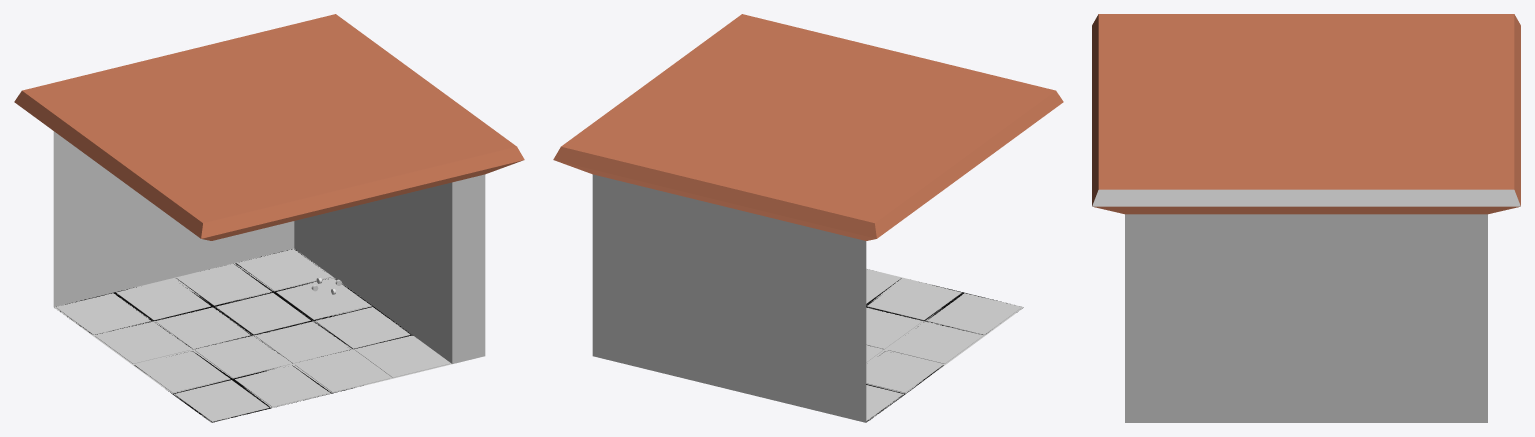
Rendered from _ffice.fbx.
The picture shows the model from 3 angles, left to right: view 1: azimuth 30°, elevation 25°; view 2: azimuth 150°, elevation 25°; view 3: azimuth 270°, elevation 25°; orthographic projection. The views are drawn at different scales.
Parts seen in each view (by area): view 1: Plane; view 2: Plane; view 3: Plane.
Boxes of the visible parts, <box> form: Plane: <box>14,14,524,422</box>; Plane: <box>553,14,1063,422</box>; Plane: <box>1092,14,1520,422</box>.
Bounding box in the file's own units: 808 × 508 × 808.
